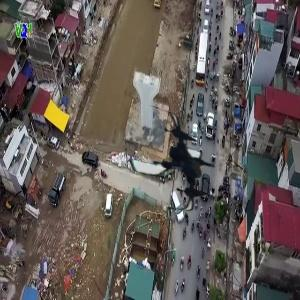drone: (119, 109, 224, 214)
